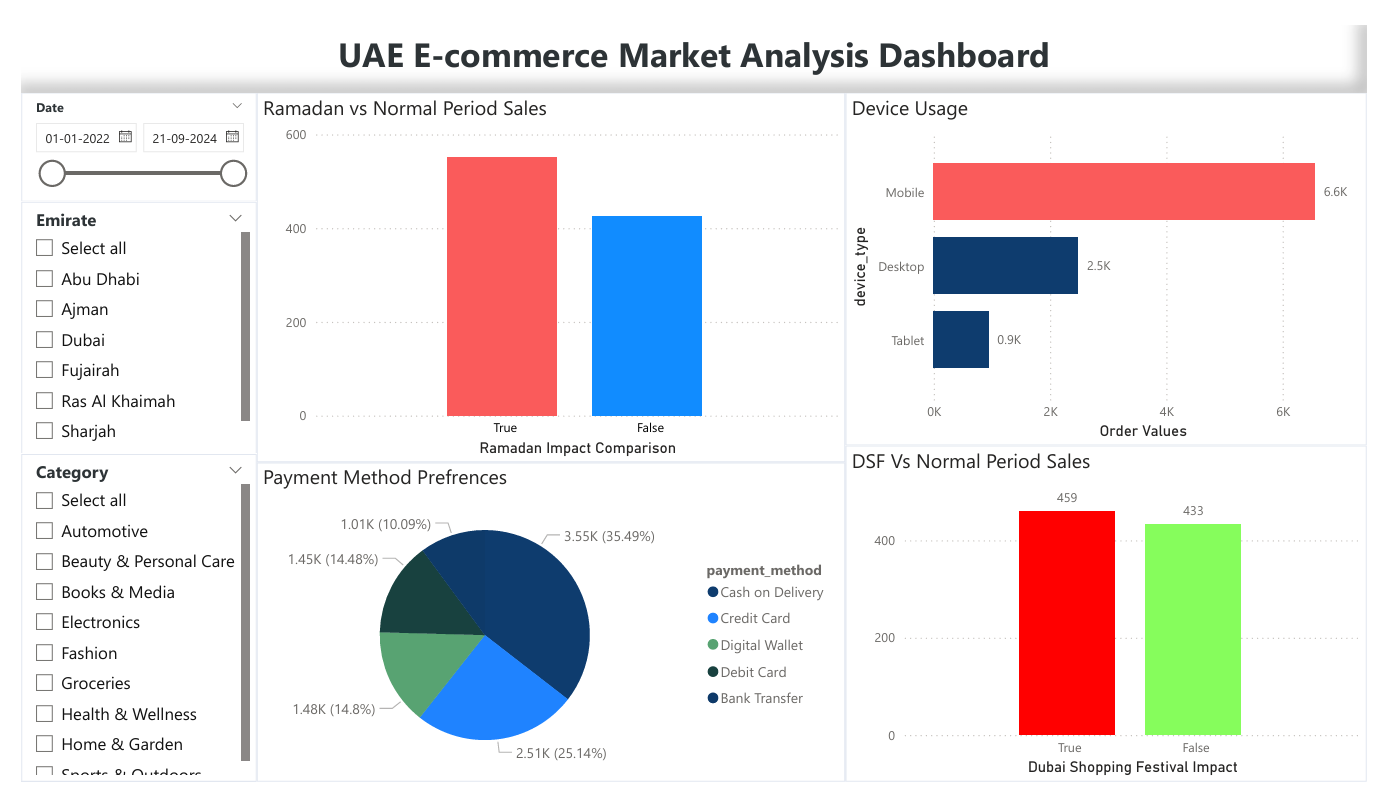

This screenshot's page, from the dashboard's own definition file:
{"tool":"powerbi","page":{"name":"Seasonal & Cultural Impact Analysis","canvas":[1280,720],"ordinal":1},"visuals":[{"type":"clusteredColumnChart","title":"Ramadan vs Normal Period Sales ","fields":{"Category":["uae_ecommerce_transactions.is_ramadan"],"Y":["Avg(uae_ecommerce_transactions.order_value_aed)"]},"box":[224,64,560,352],"z":0},{"type":"columnChart","title":"DSF Vs Normal Period Sales ","fields":{"Category":["uae_ecommerce_transactions.is_dsf"],"Y":["Avg(uae_ecommerce_transactions.order_value_aed)"]},"box":[784,400,496,320],"z":1000},{"type":"pieChart","title":"Payment Method Prefrences ","fields":{"Category":["uae_ecommerce_transactions.payment_method"],"Y":["CountNonNull(uae_ecommerce_transactions.transaction_id)"]},"box":[224,416,560,304],"z":2000},{"type":"barChart","title":"Device Usage","fields":{"Category":["uae_ecommerce_transactions.device_type"],"Y":["CountNonNull(uae_ecommerce_transactions.order_value_aed)"]},"box":[784,64,496,336],"z":3000},{"type":"slicer","fields":{"Values":["uae_ecommerce_transactions.date"]},"box":[0,64,224,104],"z":4000},{"type":"slicer","fields":{"Values":["uae_ecommerce_transactions.emirate"]},"box":[0,168,224,240],"z":5000},{"type":"slicer","fields":{"Values":["uae_ecommerce_transactions.category"]},"box":[0,408,224,312],"z":6000},{"type":"textbox","box":[0,0,1280,64],"z":7000}]}

Visuals, with their boxes in screenshot pixels (x1, y1, x2, y2), scaled from the page's 1280x720 canvas onto the 1390x806 screenshot:
"Ramadan vs Normal Period Sales " clusteredColumnChart: locate(243, 72, 851, 466)
"DSF Vs Normal Period Sales " columnChart: locate(851, 448, 1389, 805)
"Payment Method Prefrences " pieChart: locate(243, 466, 851, 805)
"Device Usage" barChart: locate(851, 72, 1389, 448)
slicer - uae_ecommerce_transactions.date: locate(0, 72, 243, 188)
slicer - uae_ecommerce_transactions.emirate: locate(0, 188, 243, 457)
slicer - uae_ecommerce_transactions.category: locate(0, 457, 243, 805)
textbox: locate(0, 0, 1389, 72)
